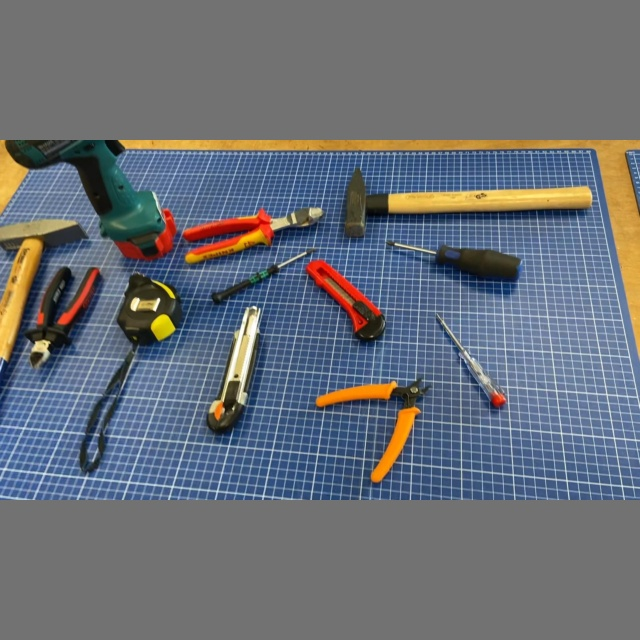drill: (1, 140, 180, 265)
screwdriver: (433, 310, 511, 411), (209, 245, 321, 307), (385, 239, 526, 285)
